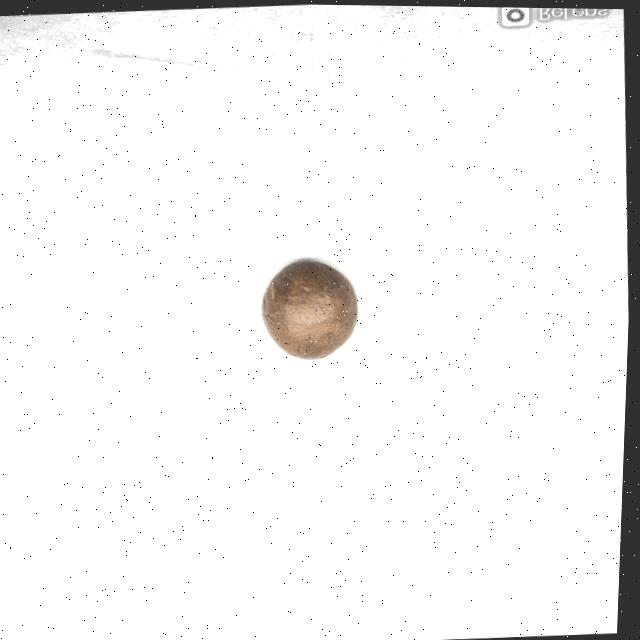Good bean: (261, 257, 362, 362)
